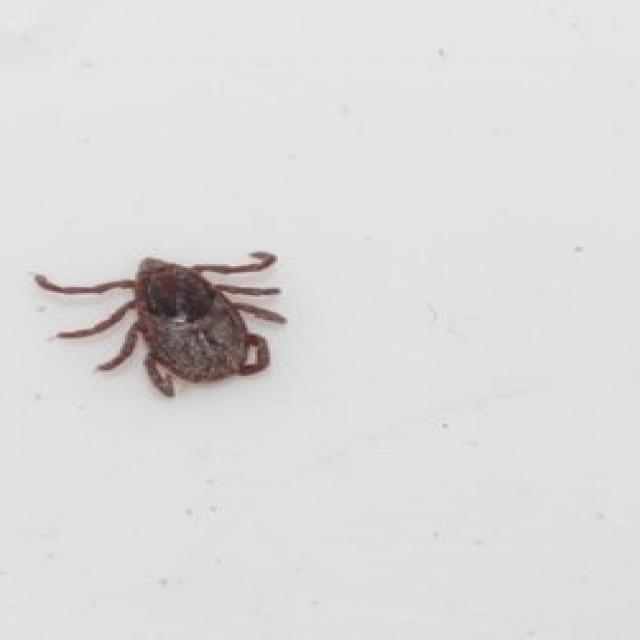Rhipicephalus Sanguineus-F: (33, 251, 286, 401)
